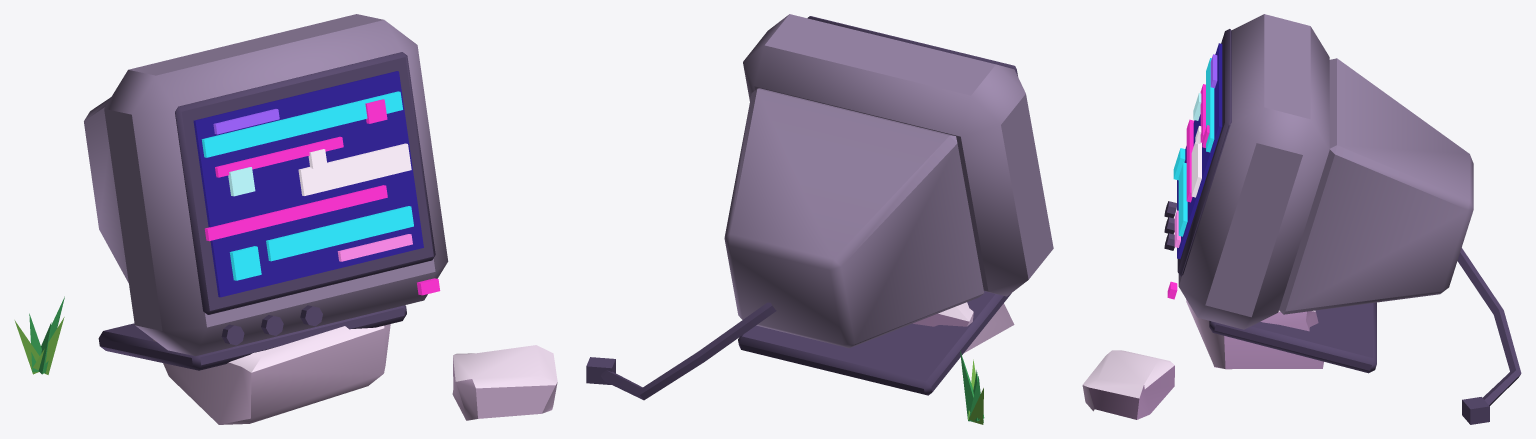
Rendered from me_crt.glb.
3 views of the same model, side by side, from view 1: azimuth 30°, elevation 25°; view 2: azimuth 150°, elevation 25°; view 3: azimuth 270°, elevation 25° (orthographic). The views are drawn at different scales.
Parts seen in each view (by area): view 1: me_crt, fx_glow_screen; view 2: me_crt; view 3: me_crt, fx_glow_screen.
Boxes of the visible parts, x1,y1,x2,y2 form: me_crt: [14, 14, 557, 424]; fx_glow_screen: [193, 71, 440, 297]; me_crt: [586, 14, 1053, 424]; me_crt: [1082, 14, 1521, 424]; fx_glow_screen: [1167, 43, 1222, 299].
Bounding box in the file's own units: 2.19 × 1.82 × 2.54.
Materials: 2 (2 with a texture image).
